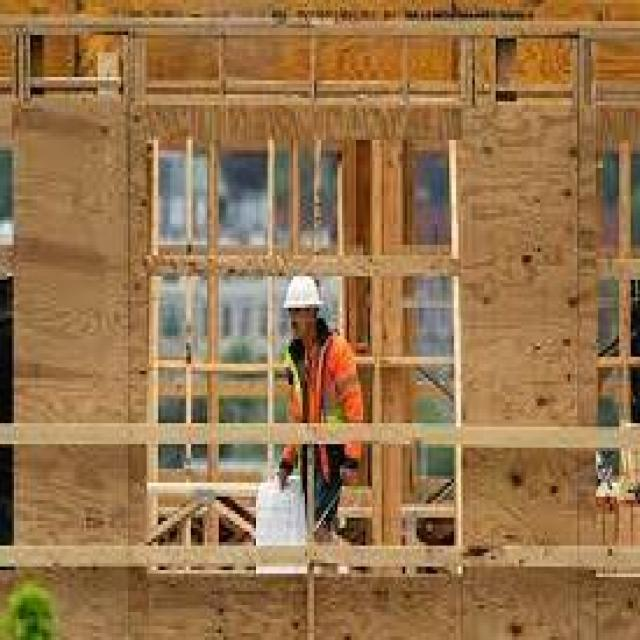Reflective-Jacket: (277, 332, 370, 493)
Safety-Helmet: (275, 262, 328, 326)
